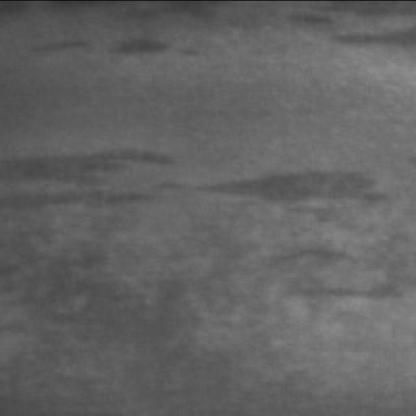inclusion: (8, 148, 406, 224), (29, 27, 210, 83), (266, 239, 410, 308), (285, 3, 416, 62)
